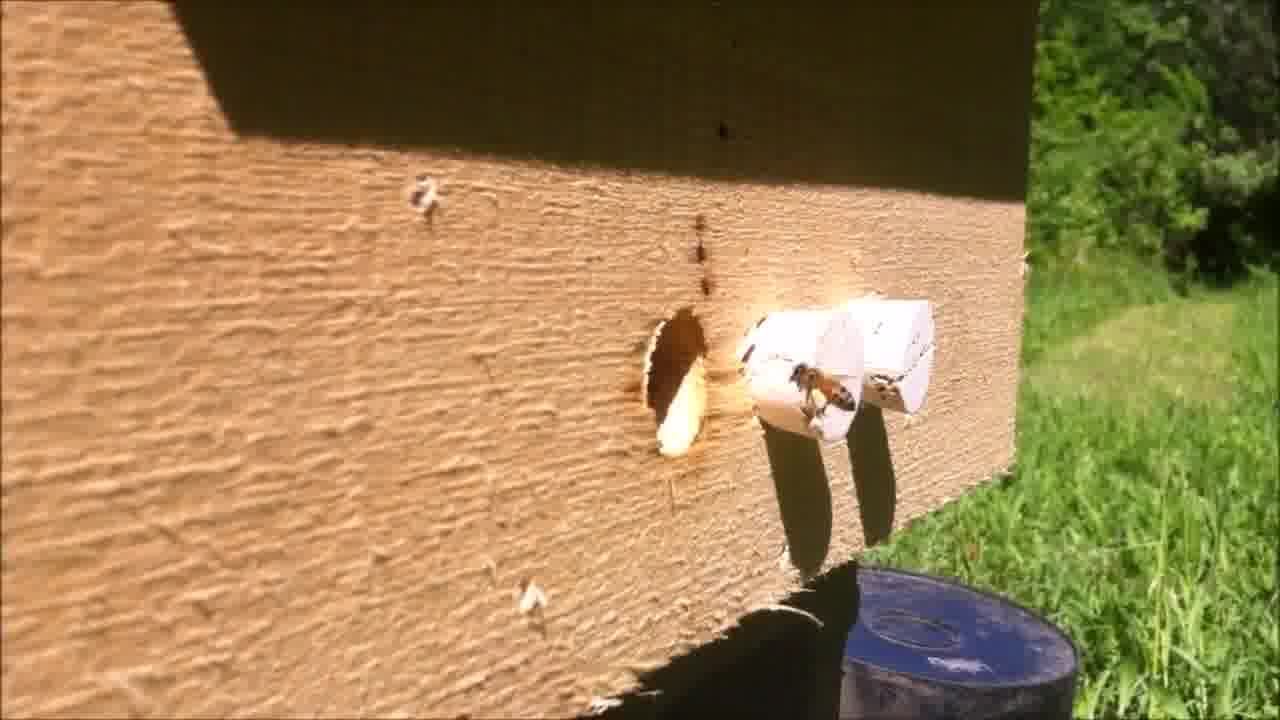pollen: (786, 360, 861, 419)
